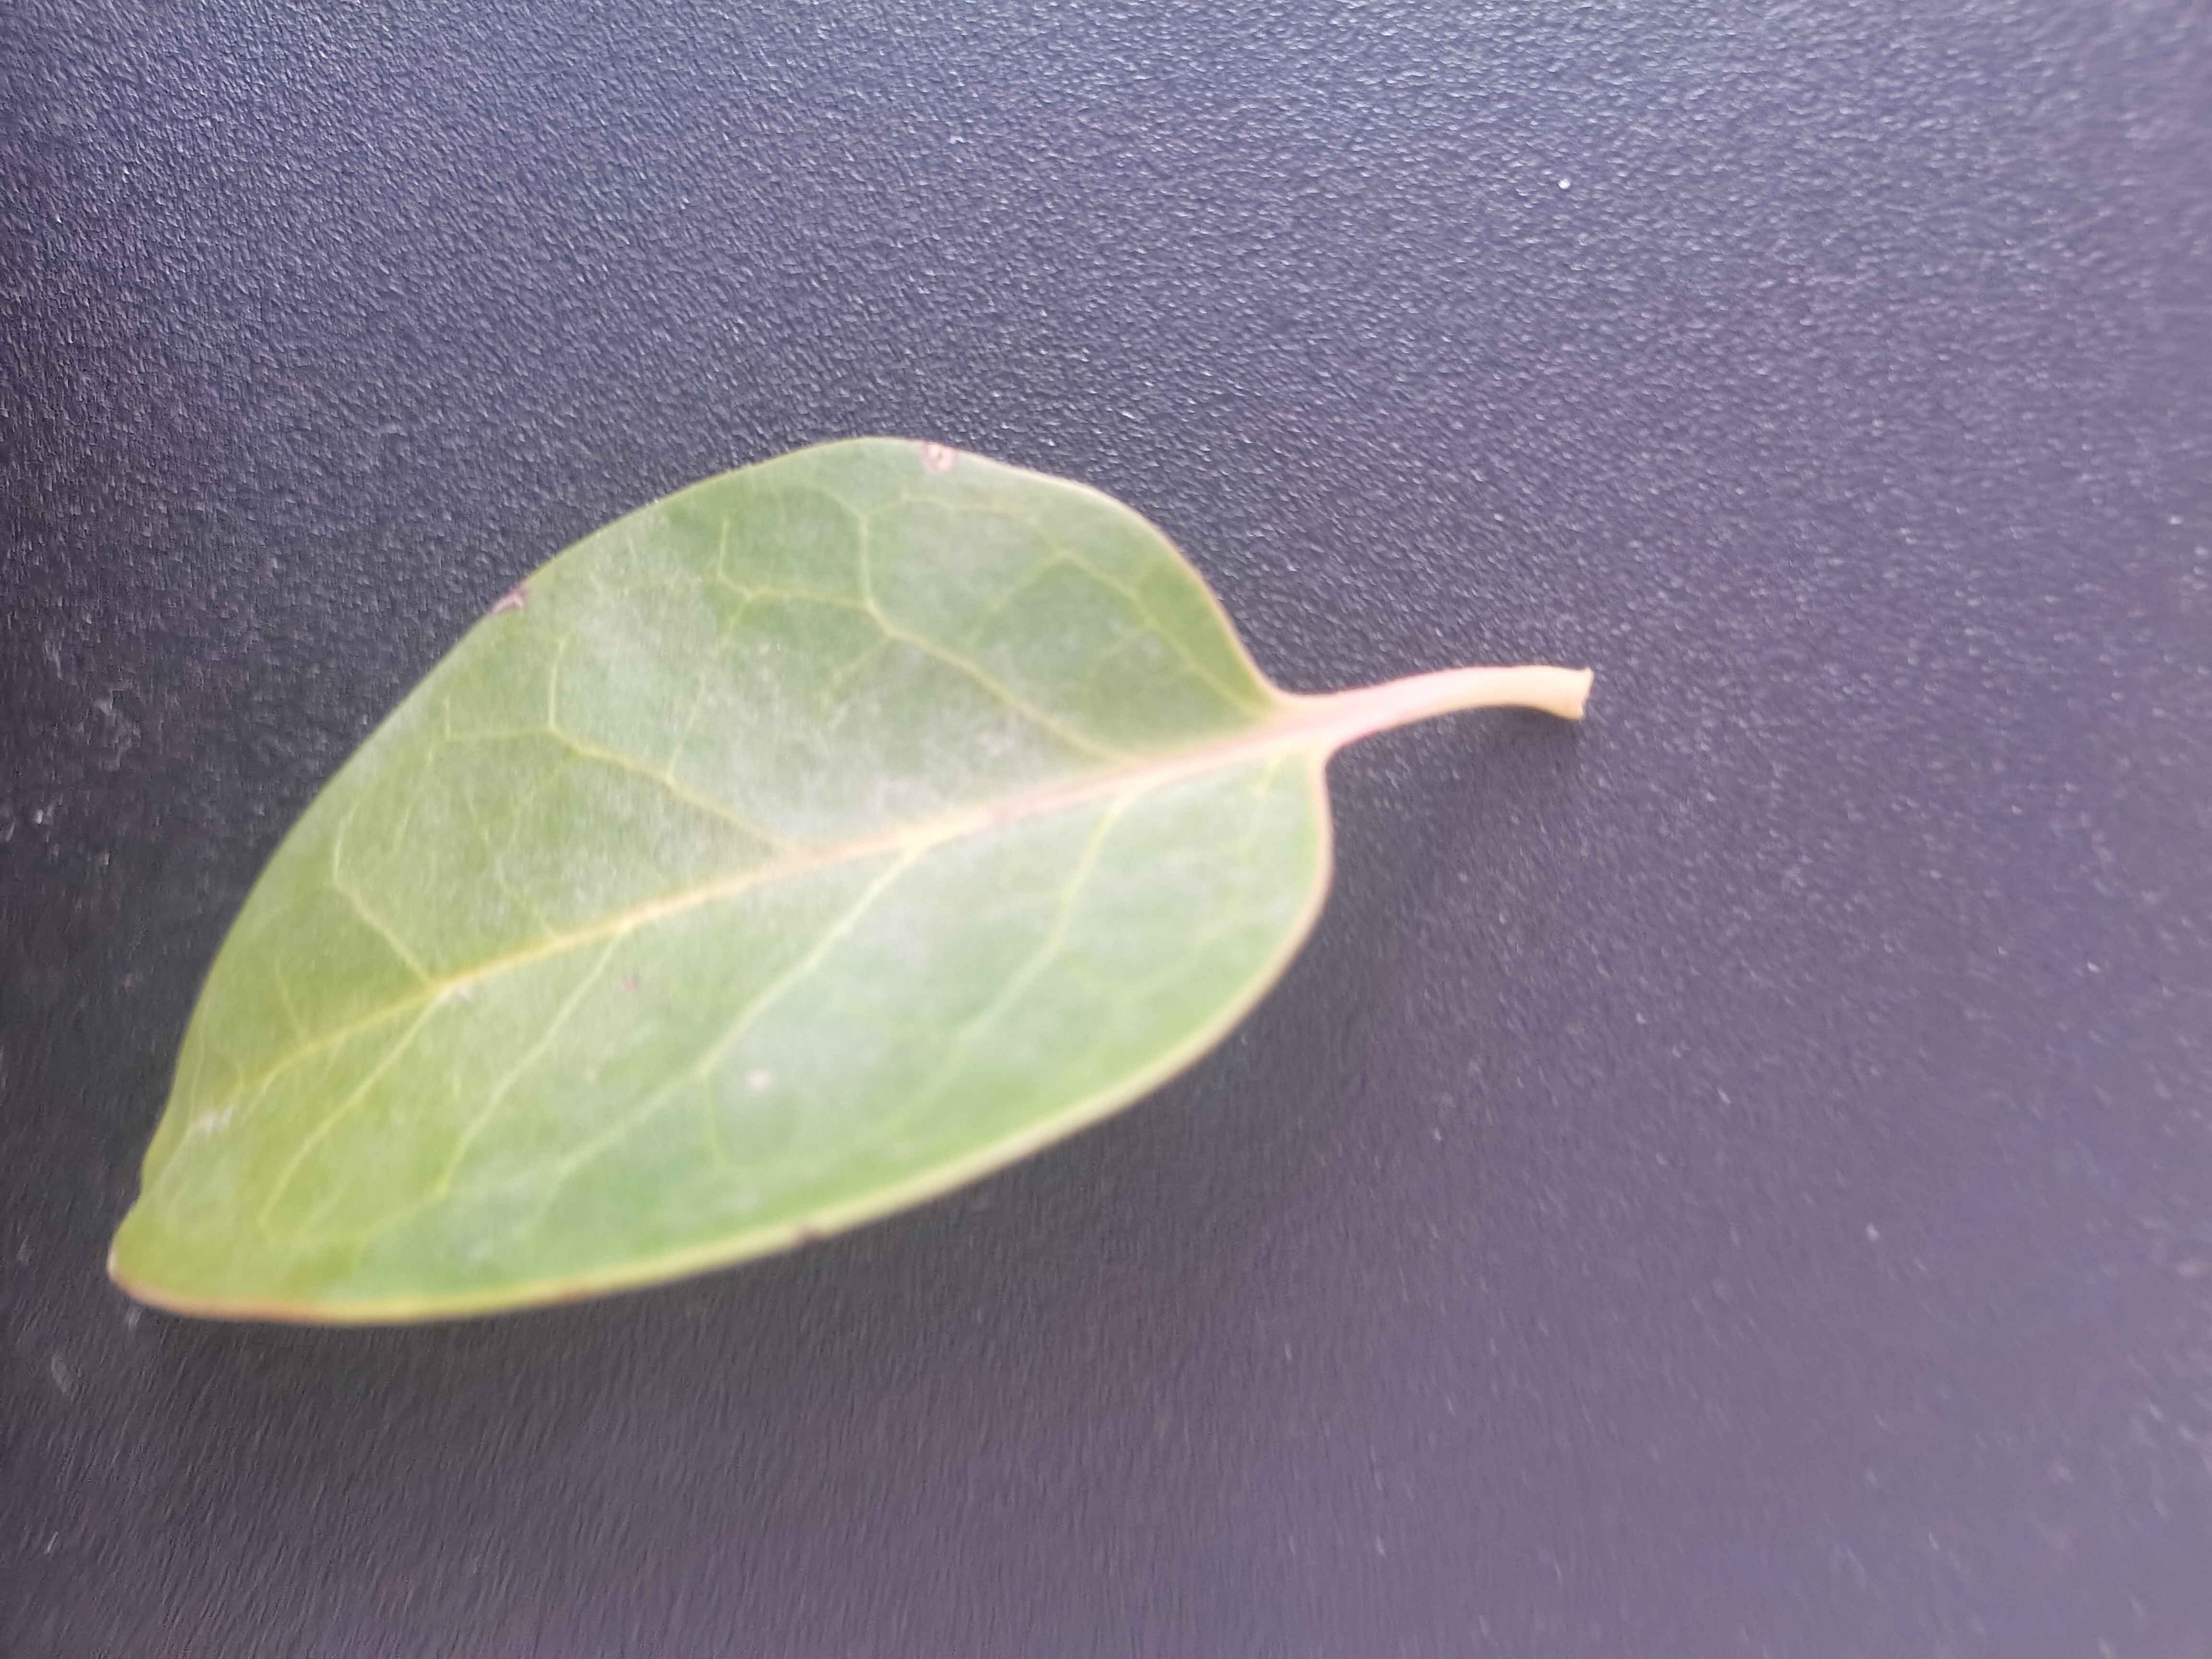4/易腐垃圾/叶子: (101, 432, 1595, 1330)
